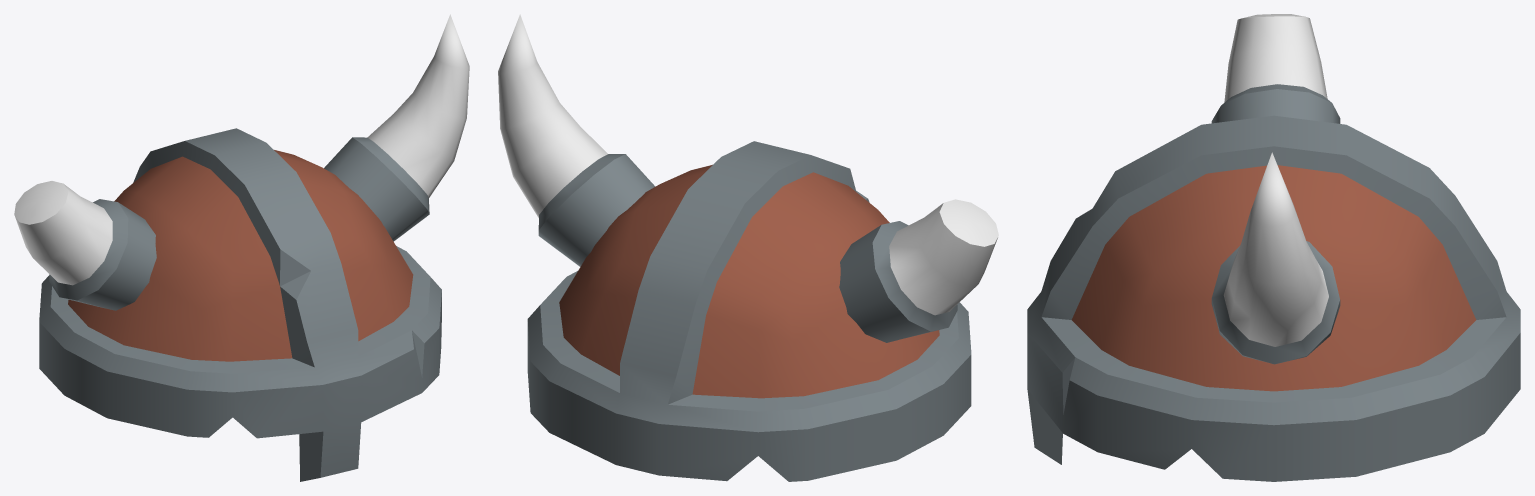
File: juggernautPowerup.fbx
The picture shows the model from 3 angles, left to right: view 1: azimuth 30°, elevation 25°; view 2: azimuth 150°, elevation 25°; view 3: azimuth 270°, elevation 25°; orthographic projection. The views are drawn at different scales.
Visible parts, largest first — view 1: skeleton_helmet; view 2: skeleton_helmet; view 3: skeleton_helmet.
Part boxes in pixels (x1=…): skeleton_helmet: x1=14, y1=14, x2=469, y2=481; skeleton_helmet: x1=498, y1=14, x2=998, y2=481; skeleton_helmet: x1=1027, y1=14, x2=1520, y2=481.
Bounding box in the file's own units: 82.89 × 61.3 × 65.21.
